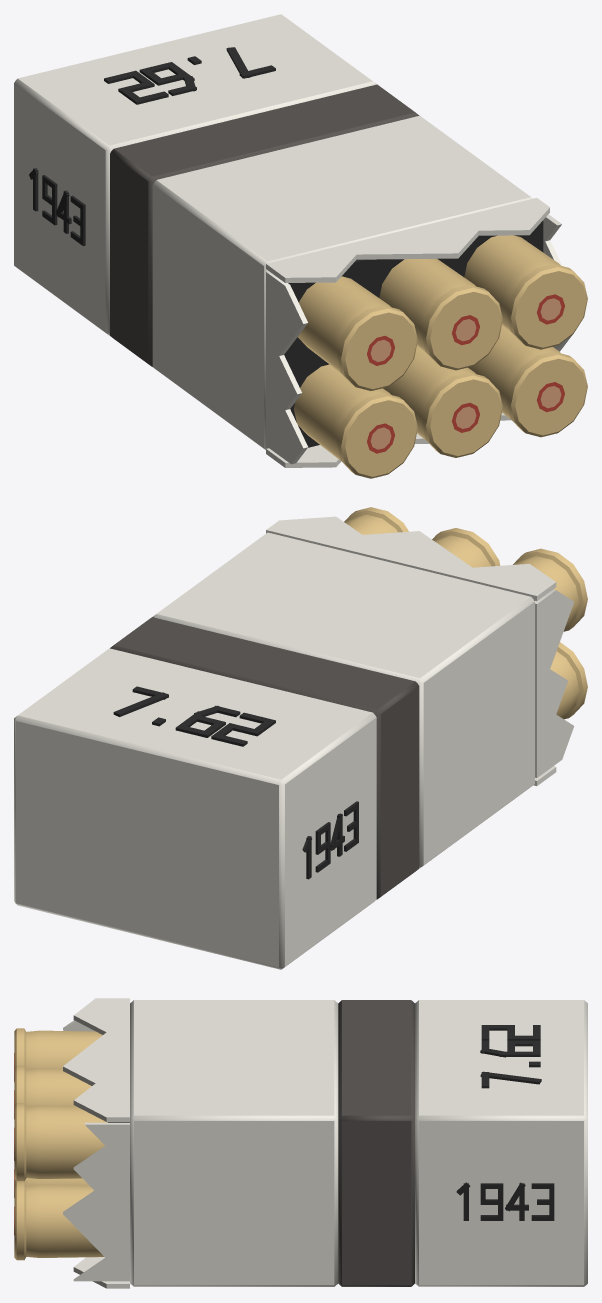
File: ammo_762r_surplus.glb
3 views of the same model, one above another, from view 1: azimuth 30°, elevation 25°; view 2: azimuth 150°, elevation 25°; view 3: azimuth 270°, elevation 25° (orthographic). The views are drawn at different scales.
Visible parts, largest first — view 1: body; view 2: body; view 3: body.
Boxes of the visible parts, bbox=[...] form: body: bbox=[14, 14, 587, 478]; body: bbox=[14, 507, 587, 969]; body: bbox=[14, 998, 587, 1288].
Size of the model in its own units: 0.0448 by 0.0299 by 0.0896.
